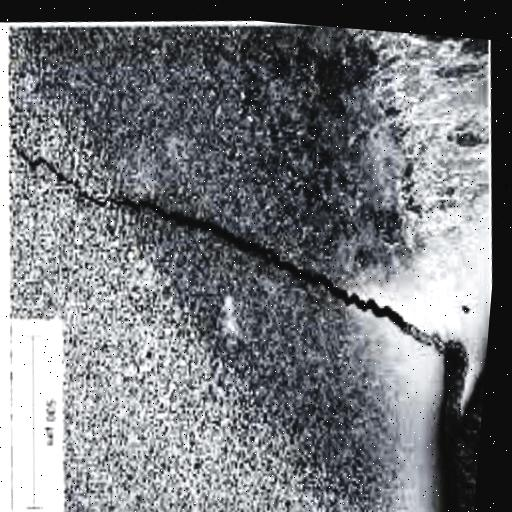crack: (15, 143, 443, 351)
